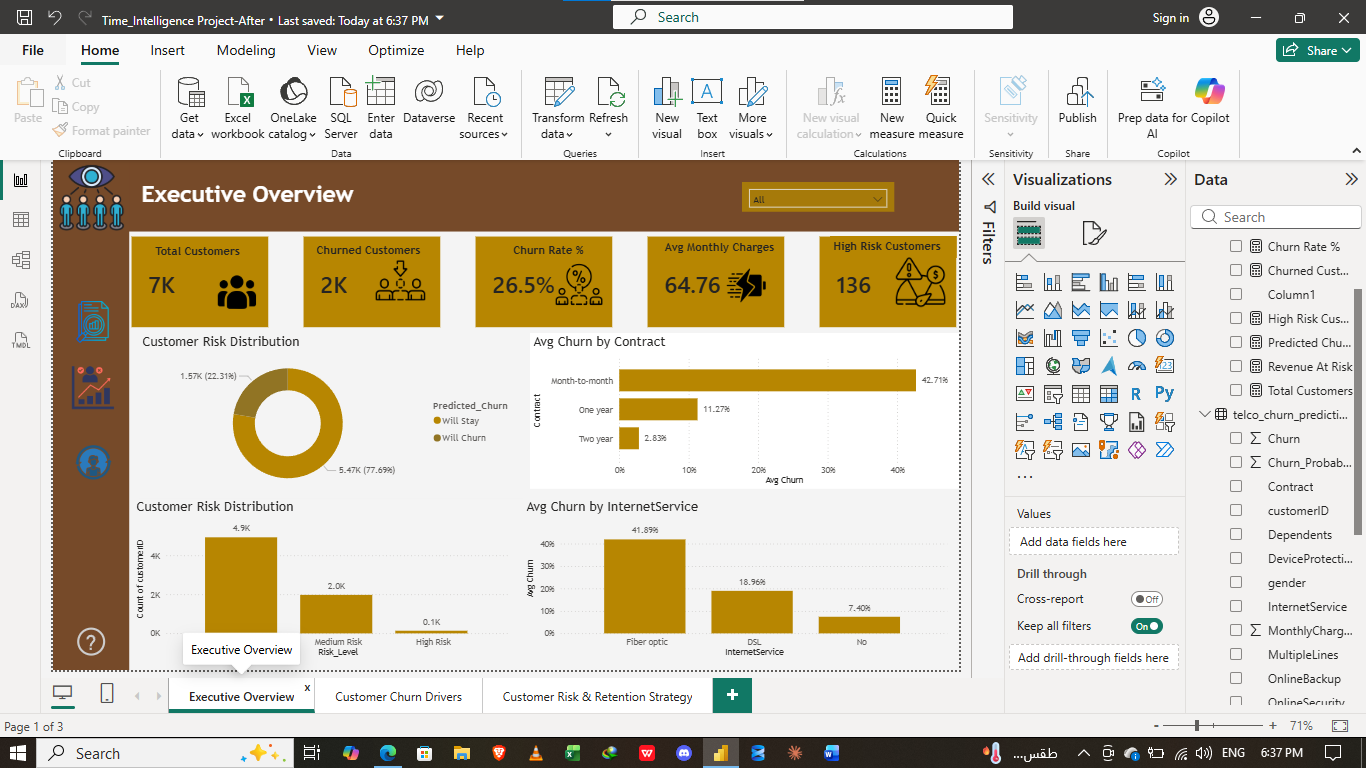

What the dashboard file says about the page in this screenshot:
{"tool":"powerbi","page":{"name":"Executive Overview","canvas":[1280,720],"ordinal":0},"visuals":[{"type":"shape","box":[0,0,107.6,720.2],"z":0,"group":"g8"},{"type":"group","id":"g1","title":"Header","box":[107.6,0,1172.7,101.5],"z":0},{"type":"shape","box":[107.6,0,1172.7,101.5],"z":0,"group":"g1"},{"type":"group","id":"g2","title":"Group 1","box":[105.9,103.1,203.3,138.4],"z":0,"group":"g7"},{"type":"cardVisual","fields":{"Data":["DAX.Total Customers"]},"box":[105.9,103.1,203.3,138.4],"z":0,"group":"g2"},{"type":"group","id":"g3","title":"Group 2","box":[1076.7,103.1,203.3,138.4],"z":1000,"group":"g7"},{"type":"textbox","box":[132.9,114.3,142.6,31.1],"z":1000,"group":"g2"},{"type":"image","box":[19.6,198.6,72.1,58.7],"z":1000,"group":"g8"},{"type":"clusteredBarChart","fields":{"Category":["telco_churn_predictions.Contract"],"Y":["DAX.Avg Churn"]},"box":[673.4,244.2,607.1,220.2],"z":1000},{"type":"group","id":"g4","title":"Group 3","box":[834.5,103.1,203.3,138.4],"z":2000,"group":"g7"},{"type":"image","box":[221.8,160,76.2,53.6],"z":2000,"group":"g2"},{"type":"image","box":[28.1,386.9,59.9,78.3],"z":2000,"group":"g8"},{"type":"clusteredColumnChart","title":"Customer Risk Distribution","fields":{"Category":["telco_churn_predictions.Risk_Level"],"Y":["CountNonNull(telco_churn_predictions.customerID)"]},"box":[112.9,477.2,536.5,230.1],"z":2000},{"type":"cardVisual","fields":{"Data":["DAX.Churned Customers"]},"box":[348.8,103.1,203.3,138.4],"z":3000,"group":"g6"},{"type":"group","id":"g5","title":"Group 4","box":[591.6,103.1,203.3,138.4],"z":3000,"group":"g7"},{"type":"image","box":[25.7,287.9,62.4,67.3],"z":3000,"group":"g8"},{"type":"clusteredColumnChart","fields":{"Category":["telco_churn_predictions.InternetService"],"Y":["DAX.Avg Churn"]},"box":[663.5,477.2,604.2,230.1],"z":3000},{"type":"image","box":[7.3,3.7,95.4,97.8],"z":4000,"group":"g8"},{"type":"textbox","box":[119.8,24.5,418.2,62.4],"z":4000,"group":"g1"},{"type":"group","id":"g6","title":"Group 5","box":[348.8,103.1,203.3,138.4],"z":4000,"group":"g7"},{"type":"cardVisual","fields":{"Data":["DAX.Churn Rate %"]},"box":[591.6,103.1,203.3,138.4],"z":4000,"group":"g5"},{"type":"donutChart","title":"Customer Risk Distribution","fields":{"Y":["CountNonNull(telco_churn_predictions.customerID)"],"Category":["telco_churn_predictions.Predicted_Churn"]},"box":[121.4,244.2,542.1,232.9],"z":4000},{"type":"group","id":"g7","title":"Group 6","box":[105.9,103.1,1174.1,138.4],"z":5000},{"type":"cardVisual","fields":{"Data":["DAX.Avg Monthly Charges"]},"box":[834.5,103.1,203.3,138.4],"z":5000,"group":"g4"},{"type":"actionButton","box":[28.1,651.8,51.4,55],"z":5000,"group":"g8"},{"type":"slicer","fields":{"Values":["telco_churn_predictions.Contract","telco_churn_predictions.PaymentMethod","telco_churn_predictions.InternetService"]},"box":[972.7,31.1,214.6,42.4],"z":6000},{"type":"cardVisual","fields":{"Data":["DAX.High Risk Customers"]},"box":[1076.7,103.1,203.3,138.4],"z":6000,"group":"g3"},{"type":"group","id":"g8","title":"Navigator","box":[0,0,107.3,720],"z":7000},{"type":"textbox","box":[628.9,113.1,142.6,31.1],"z":7000,"group":"g5"},{"type":"textbox","box":[854,108.8,173.6,31.1],"z":8000,"group":"g4"},{"type":"textbox","box":[1096,107,179.3,31.1],"z":9000,"group":"g3"},{"type":"textbox","box":[367.2,113,166.6,31.1],"z":16000,"group":"g6"},{"type":"image","box":[447.6,135.6,86.1,69.2],"z":17000,"group":"g6"},{"type":"image","box":[702.3,142.8,81.9,66.4],"z":18000,"group":"g5"},{"type":"image","box":[933.1,150.3,91.8,55.1],"z":19000,"group":"g4"},{"type":"image","box":[1177.9,136.7,91.8,70.6],"z":20000,"group":"g3"}]}

Visuals, with their boxes on the page's 1280x720 design canvas (x1, y1, x2, y2). These are canvas units, not pixel positions in the 1366x768 screenshot, which may show the page scaled, cropped or inside an application window:
shape: Rect(0, 0, 108, 720)
"Header" group: Rect(108, 0, 1280, 102)
shape: Rect(108, 0, 1280, 102)
"Group 1" group: Rect(106, 103, 309, 242)
cardVisual - DAX.Total Customers: Rect(106, 103, 309, 242)
"Group 2" group: Rect(1077, 103, 1280, 242)
textbox: Rect(133, 114, 276, 145)
image: Rect(20, 199, 92, 257)
clusteredBarChart - telco_churn_predictions.Contract x DAX.Avg Churn: Rect(673, 244, 1280, 464)
"Group 3" group: Rect(834, 103, 1038, 242)
image: Rect(222, 160, 298, 214)
image: Rect(28, 387, 88, 465)
"Customer Risk Distribution" clusteredColumnChart: Rect(113, 477, 649, 707)
cardVisual - DAX.Churned Customers: Rect(349, 103, 552, 242)
"Group 4" group: Rect(592, 103, 795, 242)
image: Rect(26, 288, 88, 355)
clusteredColumnChart - telco_churn_predictions.InternetService x DAX.Avg Churn: Rect(664, 477, 1268, 707)
image: Rect(7, 4, 103, 102)
textbox: Rect(120, 24, 538, 87)
"Group 5" group: Rect(349, 103, 552, 242)
cardVisual - DAX.Churn Rate %: Rect(592, 103, 795, 242)
"Customer Risk Distribution" donutChart: Rect(121, 244, 664, 477)
"Group 6" group: Rect(106, 103, 1280, 242)
cardVisual - DAX.Avg Monthly Charges: Rect(834, 103, 1038, 242)
actionButton: Rect(28, 652, 80, 707)
slicer - telco_churn_predictions.Contract x telco_churn_predictions.PaymentMethod: Rect(973, 31, 1187, 74)
cardVisual - DAX.High Risk Customers: Rect(1077, 103, 1280, 242)
"Navigator" group: Rect(0, 0, 107, 720)
textbox: Rect(629, 113, 772, 144)
textbox: Rect(854, 109, 1028, 140)
textbox: Rect(1096, 107, 1275, 138)
textbox: Rect(367, 113, 534, 144)
image: Rect(448, 136, 534, 205)
image: Rect(702, 143, 784, 209)
image: Rect(933, 150, 1025, 205)
image: Rect(1178, 137, 1270, 207)
